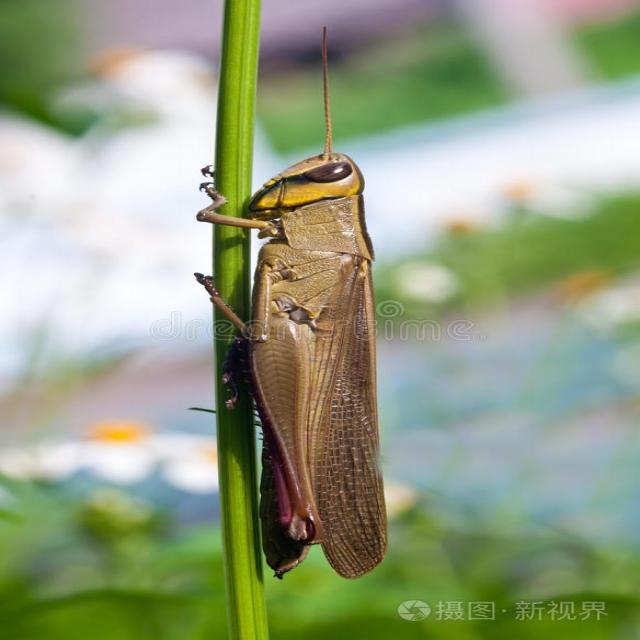ZhaMeng: (202, 24, 430, 589)
